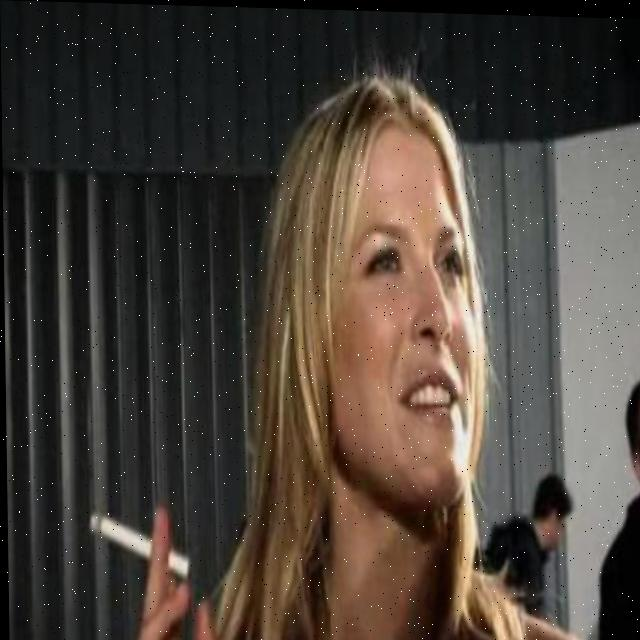cigarette: (86, 511, 190, 585)
